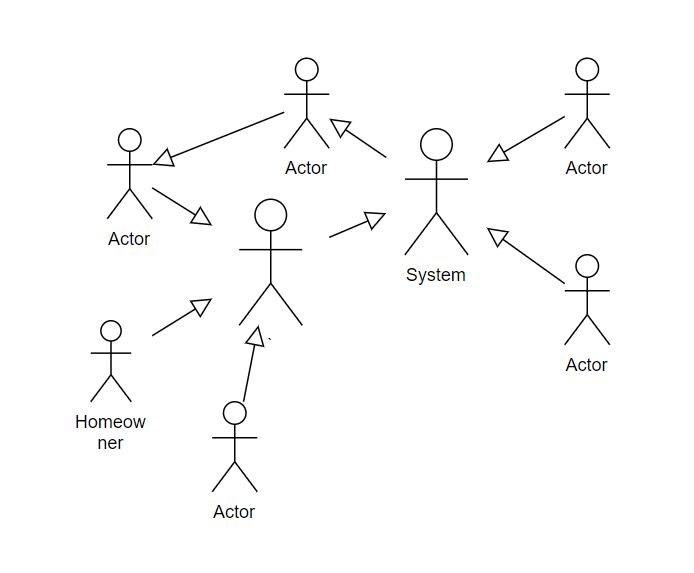actor: (237, 196, 305, 326), (404, 129, 469, 256), (105, 126, 152, 220), (563, 254, 609, 346), (210, 402, 256, 492), (567, 55, 611, 149), (284, 57, 327, 147), (90, 320, 133, 401)
generalization: (153, 112, 285, 165), (486, 227, 564, 285), (487, 115, 566, 162), (151, 186, 213, 226), (152, 298, 212, 336), (329, 118, 386, 157), (326, 212, 386, 239), (243, 325, 264, 401)
text: (70, 413, 147, 451), (402, 266, 472, 291), (562, 354, 615, 378), (208, 496, 256, 522), (105, 227, 151, 248), (280, 159, 331, 176), (562, 161, 612, 176)
